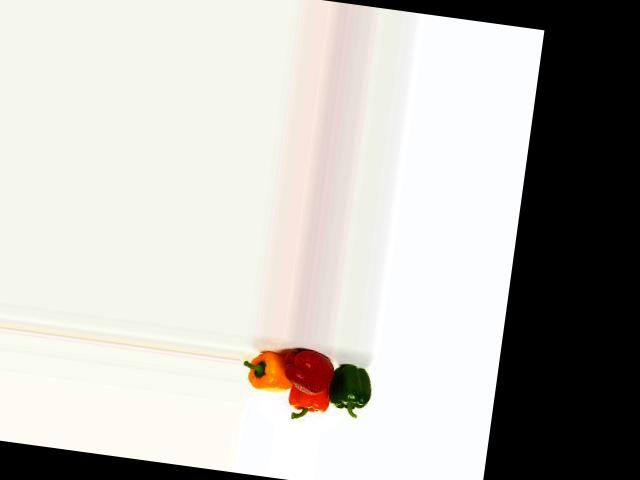bell_pepper: (324, 355, 375, 416)
